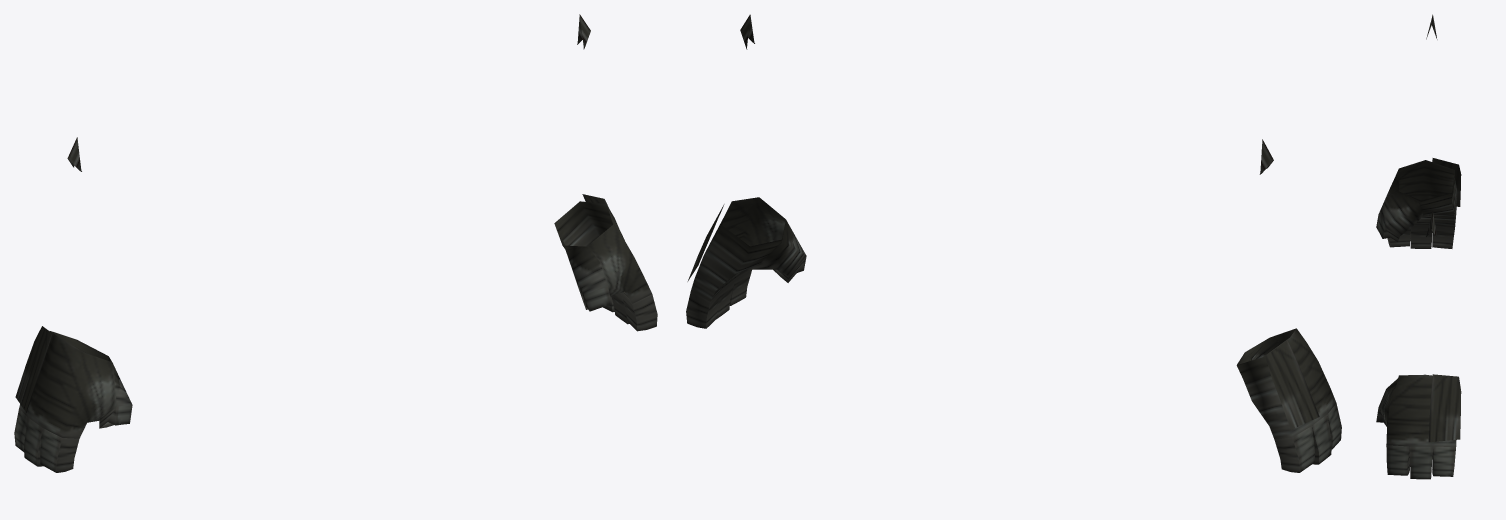
File: hum_berserker_07_f7354b8c.glb
3 renders of one model, left to right at view 1: azimuth 30°, elevation 25°; view 2: azimuth 150°, elevation 25°; view 3: azimuth 270°, elevation 25°, orthographic. The views are drawn at different scales.
Size of the model in its own units: 1.7 by 0.9106 by 0.3651.
1 material, 1 textured.
